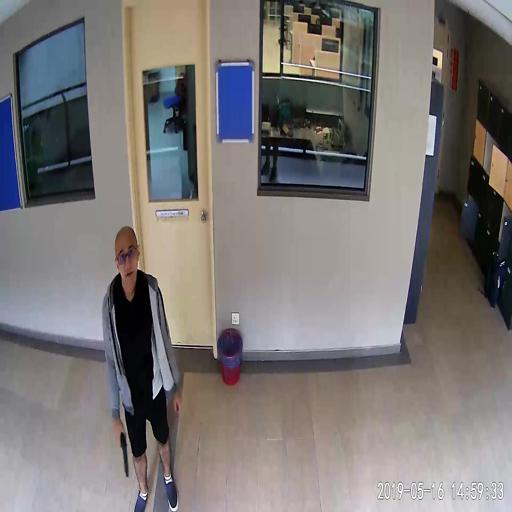pistol: (117, 429, 129, 476)
